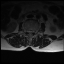CCS_normal: (29, 28, 31, 36)
LFS_normal: (33, 28, 35, 35)
LLS_normal: (31, 28, 33, 35)
RFS_normal: (25, 27, 27, 34)
RLS_normal: (27, 28, 29, 35)
